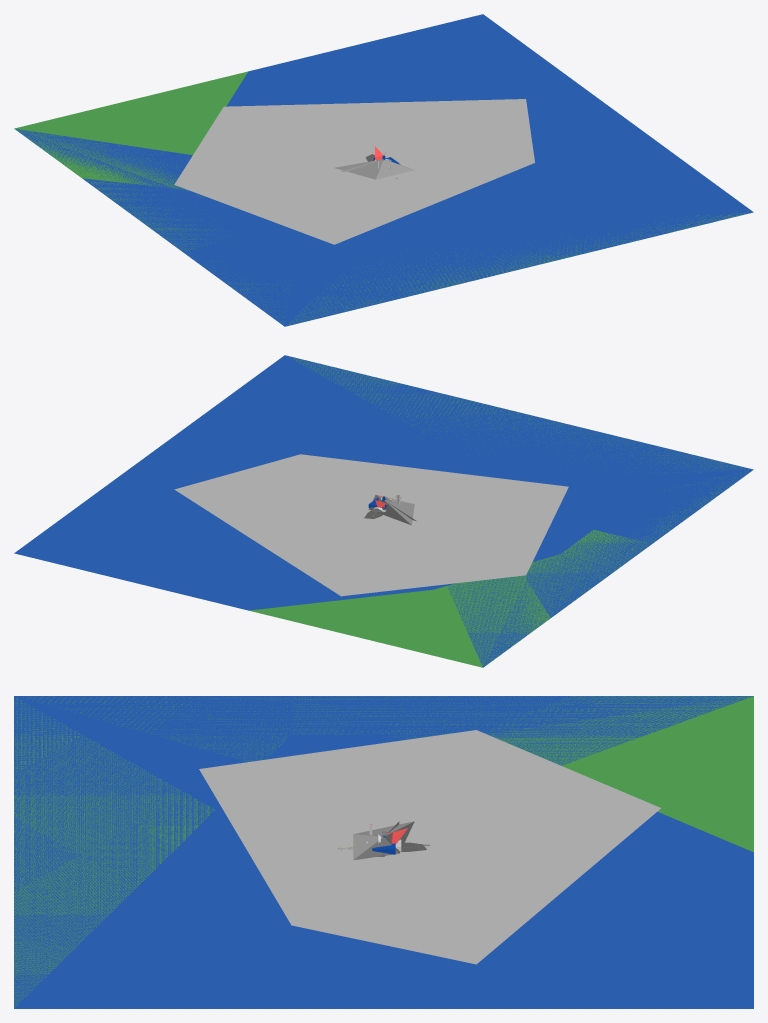
3 views of the same model, one above another, from view 1: azimuth 30°, elevation 25°; view 2: azimuth 150°, elevation 25°; view 3: azimuth 270°, elevation 25° (orthographic). The views are drawn at different scales.
Parts seen in each view (by area): view 1: lb_002_lod0, lb_019_lod0, lb_001_lod0, lb_006_lod0, lb_003_lod0, lb_004_lod0, lb_005_lod0, lb_009_lod0; view 2: lb_002_lod0, lb_019_lod0, lb_004_lod0, lb_003_lod0, lb_001_lod0, lb_006_lod0, lb_005_lod0, lb_009_lod0; view 3: lb_002_lod0, lb_019_lod0, lb_001_lod0, lb_004_lod0, lb_005_lod0, lb_003_lod0, lb_006_lod0, lb_009_lod0.
Part boxes in pixels (bbox=[...]): lb_002_lod0: bbox=[184, 14, 753, 326]; lb_019_lod0: bbox=[174, 99, 534, 244]; lb_001_lod0: bbox=[15, 129, 333, 326]; lb_006_lod0: bbox=[15, 71, 248, 189]; lb_003_lod0: bbox=[15, 129, 593, 326]; lb_004_lod0: bbox=[14, 72, 288, 321]; lb_005_lod0: bbox=[288, 212, 747, 324]; lb_009_lod0: bbox=[334, 159, 414, 179]; lb_002_lod0: bbox=[14, 355, 753, 610]; lb_019_lod0: bbox=[174, 454, 568, 596]; lb_004_lod0: bbox=[249, 471, 749, 667]; lb_003_lod0: bbox=[376, 384, 752, 667]; lb_001_lod0: bbox=[484, 469, 753, 666]; lb_006_lod0: bbox=[259, 576, 550, 667]; lb_005_lod0: bbox=[289, 356, 750, 472]; lb_009_lod0: bbox=[368, 494, 414, 525]; lb_002_lod0: bbox=[14, 696, 753, 1008]; lb_019_lod0: bbox=[199, 730, 660, 964]; lb_001_lod0: bbox=[14, 696, 752, 773]; lb_004_lod0: bbox=[23, 696, 753, 851]; lb_005_lod0: bbox=[14, 698, 214, 1006]; lb_003_lod0: bbox=[14, 696, 752, 909]; lb_006_lod0: bbox=[485, 696, 753, 852]; lb_009_lod0: bbox=[353, 821, 414, 860].
Size of what is drawn, in the model's own units: 4096 by 150 by 4096.
